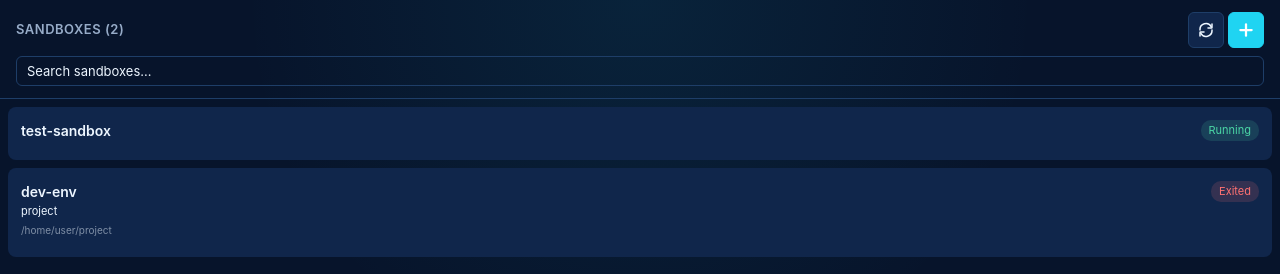
it: SandboxList › shows no-results message when filter matches nothing
The width and height of the screenshot is (1280, 274).
In the field with placeholder "Search sandboxes…": (640, 71) x1=16 y1=56 x2=1264 y2=86, type "zzzz"
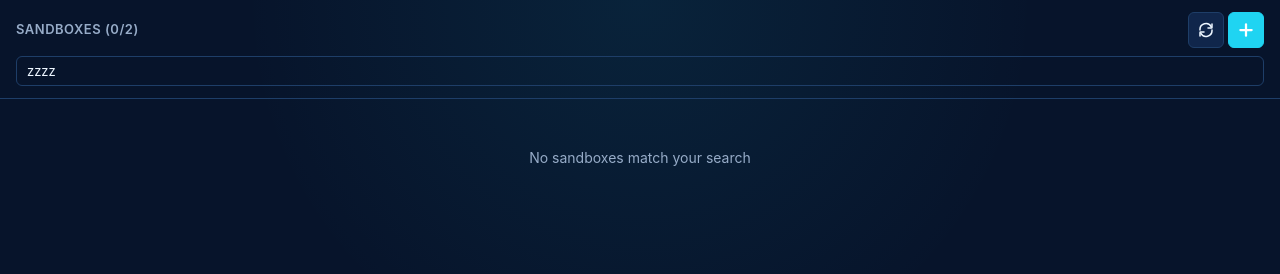
Now the text "No sandboxes match your search" is shown, box x1=529 y1=147 x2=751 y2=168
